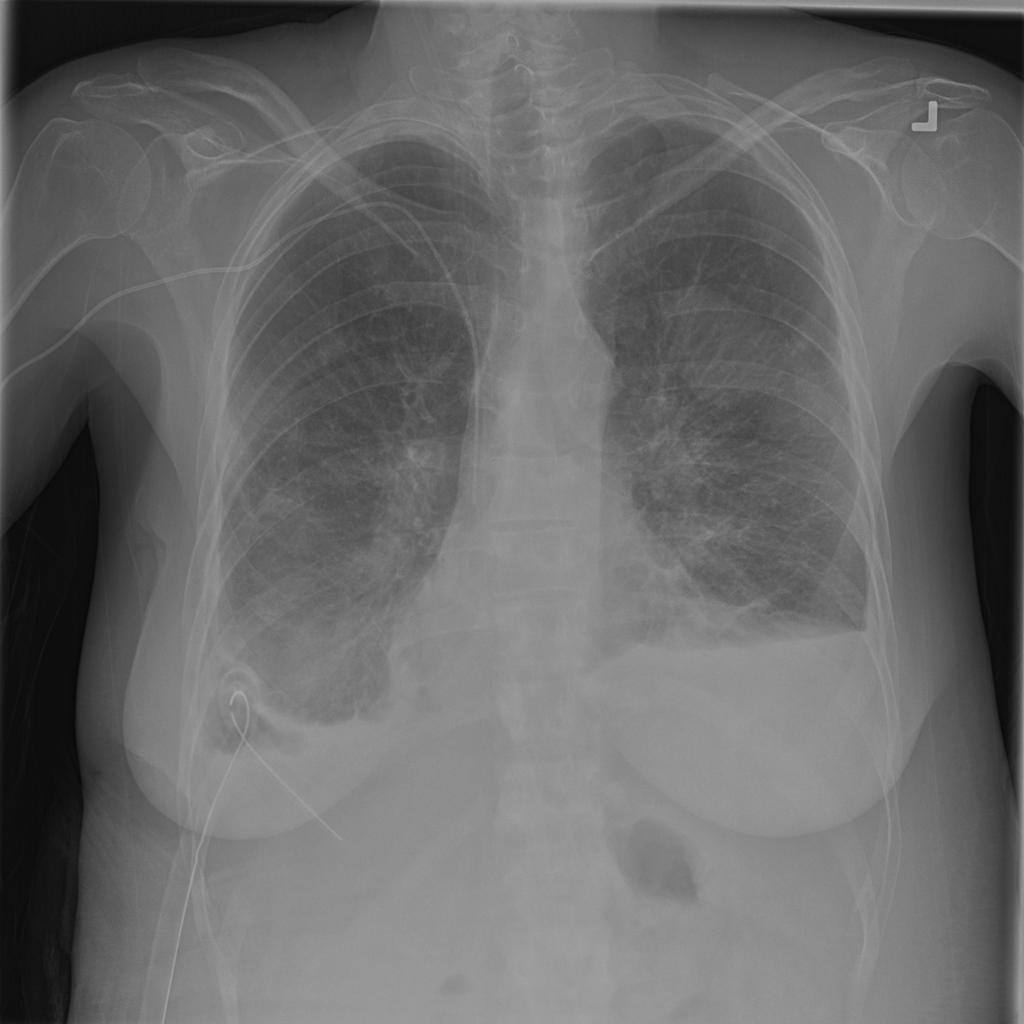nodule: (655, 274, 784, 424)
